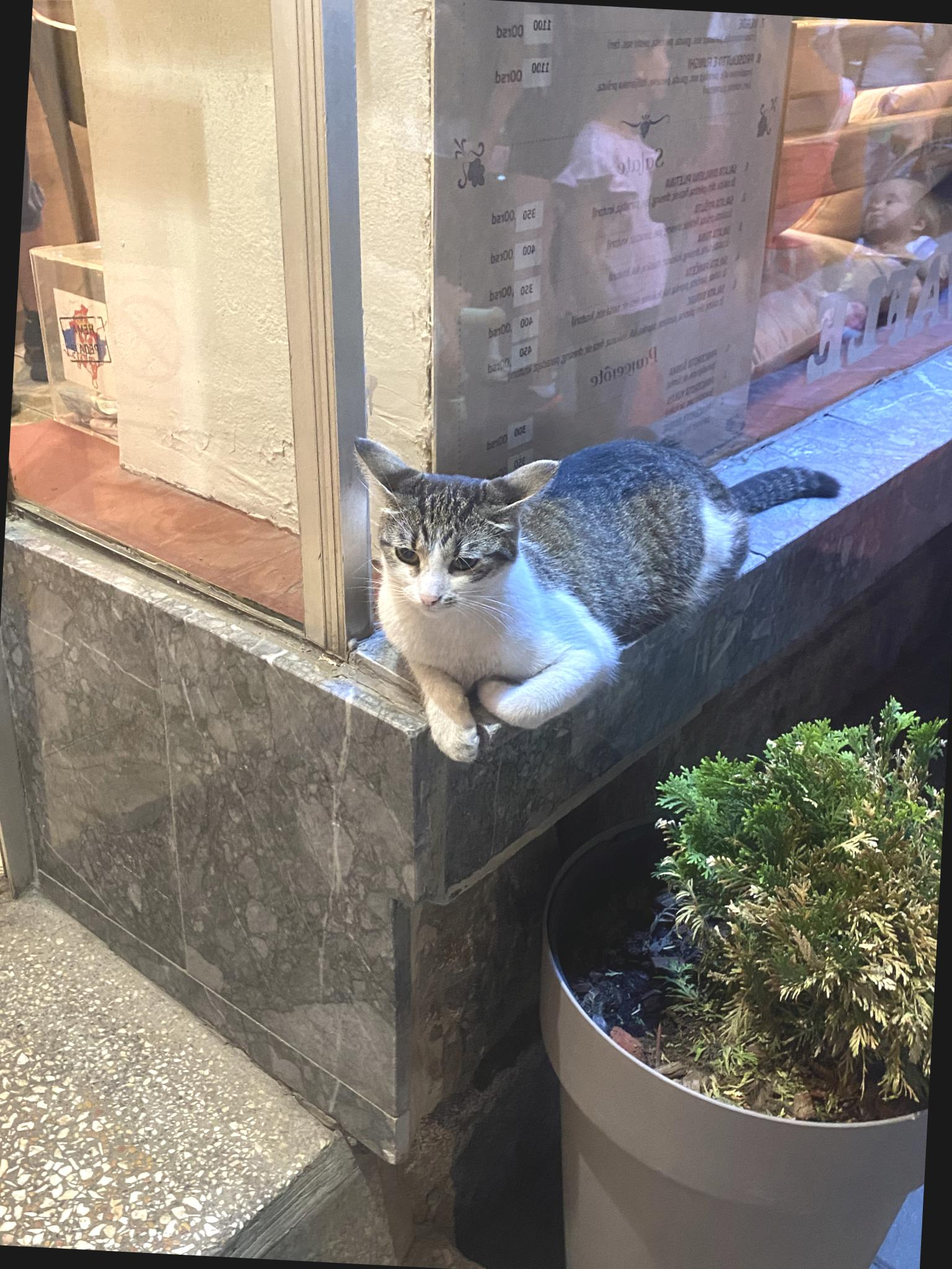macka: (336, 423, 841, 783)
